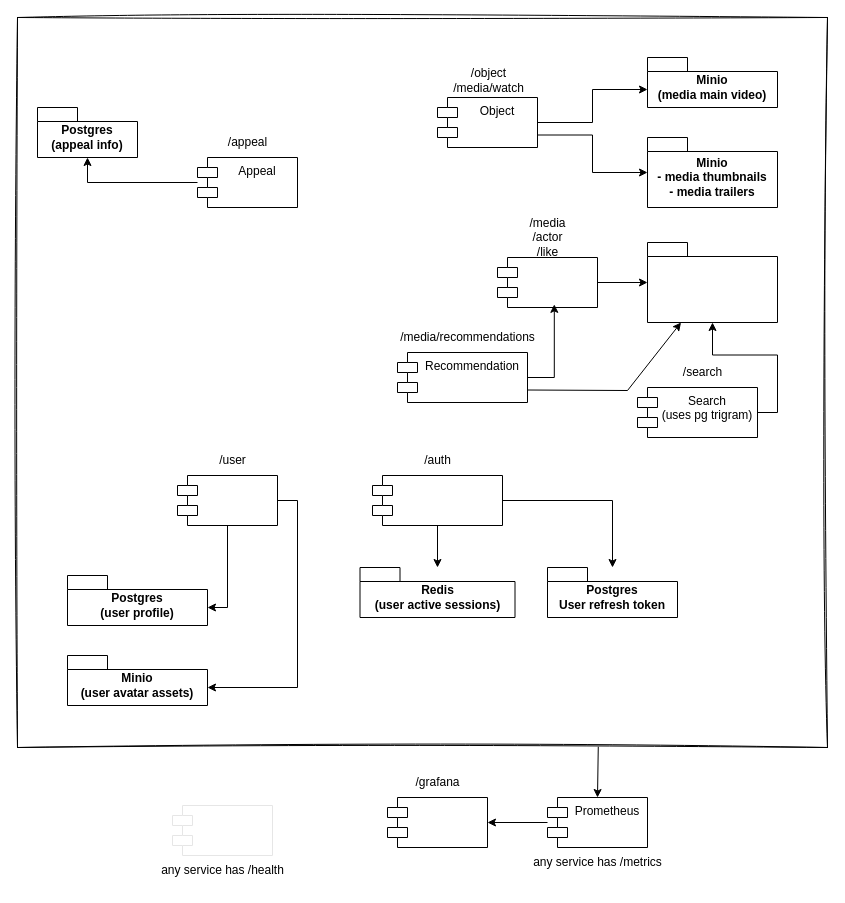
This 845x903 diagram has some shape labels left out. Here are the shapes that lost their labels. From the top down, the box of each, then its label:
(496, 256, 598, 308): Media
(646, 242, 778, 322): Postgres - media info - actor info - genre info
(176, 474, 278, 526): User
(372, 474, 502, 526): Authentication
(172, 804, 272, 856): Consul/k8s (later)
(386, 796, 488, 848): Grafana
